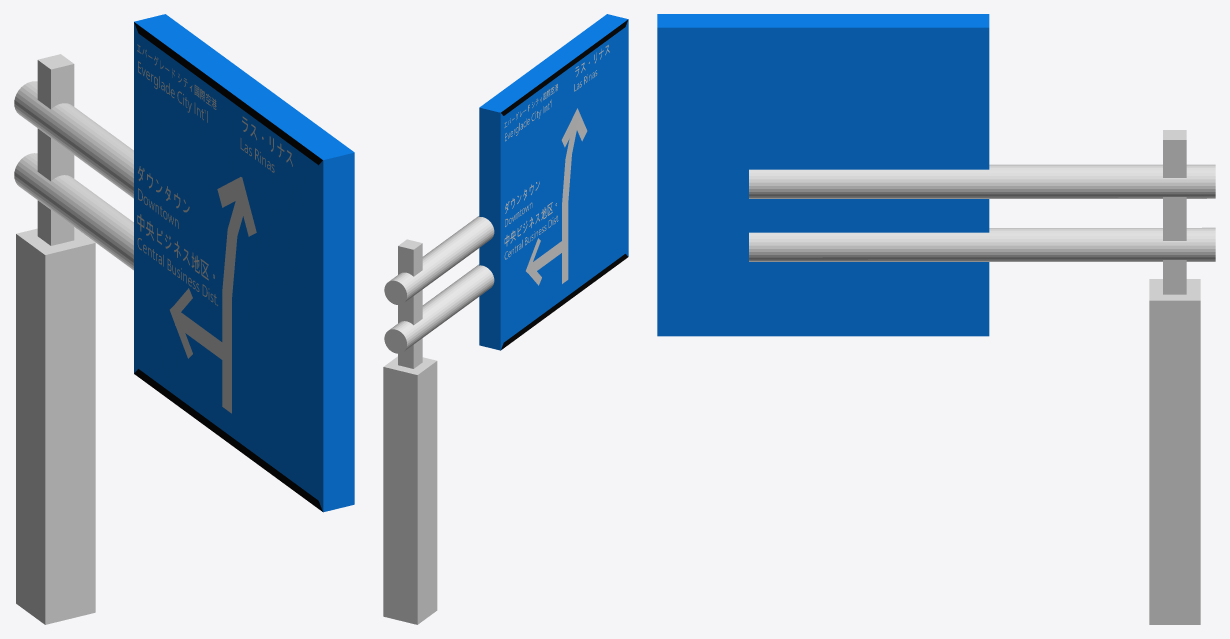
File: japantown_sign_15.fbx
3 views of the same model, side by side, from view 1: azimuth 30°, elevation 25°; view 2: azimuth 150°, elevation 25°; view 3: azimuth 270°, elevation 25° (orthographic). The views are drawn at different scales.
Parts seen in each view (by area): view 1: Cube.003, Cube, Cylinder, Cylinder.001, Plane, Plane.001, Plane.005, Text.004; view 2: Cube.003, Cube, Cylinder.001, Cylinder, Plane, Plane.001; view 3: Cube.003, Cube, Cylinder, Cylinder.001.
Part boxes in pixels (left/top/right/bottom): Cube.003: left=134, top=14, right=354, bottom=512; Cube: left=16, top=54, right=95, bottom=624; Cylinder: left=14, top=81, right=133, bottom=198; Cylinder.001: left=14, top=153, right=133, bottom=270; Plane: left=222, top=199, right=243, bottom=413; Plane.001: left=175, top=309, right=222, bottom=359; Plane.005: left=217, top=177, right=245, bottom=207; Text.004: left=137, top=214, right=214, bottom=280; Cube.003: left=479, top=14, right=628, bottom=350; Cube: left=383, top=239, right=437, bottom=624; Cylinder.001: left=384, top=264, right=494, bottom=353; Cylinder: left=384, top=216, right=494, bottom=304; Plane: left=562, top=127, right=576, bottom=283; Plane.001: left=531, top=241, right=561, bottom=270; Cube.003: left=657, top=14, right=989, bottom=336; Cube: left=1149, top=130, right=1200, bottom=624; Cylinder: left=749, top=164, right=1215, bottom=198; Cylinder.001: left=749, top=227, right=1215, bottom=261.
Bounding box in the file's own units: 6.7 × 76.11 × 65.5.
